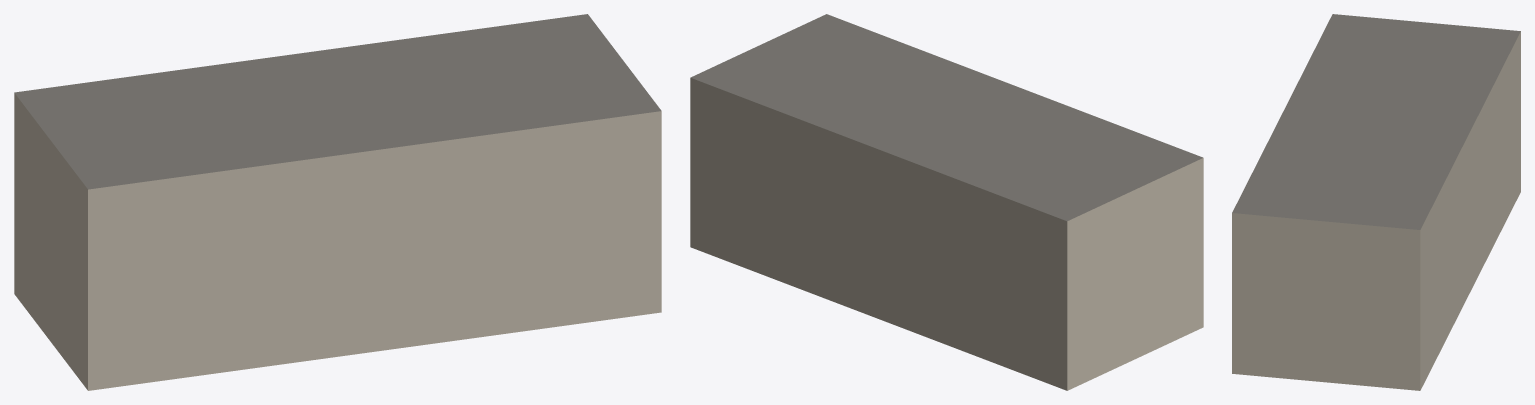
The picture shows the model from 3 angles, left to right: view 1: azimuth 30°, elevation 25°; view 2: azimuth 150°, elevation 25°; view 3: azimuth 270°, elevation 25°; orthographic projection. The views are drawn at different scales.
Parts seen in each view (by area): view 1: HP-w859488866; view 2: HP-w859488866; view 3: HP-w859488866.
Part boxes in pixels (bbox=[...]): HP-w859488866: bbox=[14, 14, 661, 390]; HP-w859488866: bbox=[690, 14, 1203, 390]; HP-w859488866: bbox=[1232, 14, 1520, 390].
Size of the model in its own units: 51.87 by 18 by 29.3.
